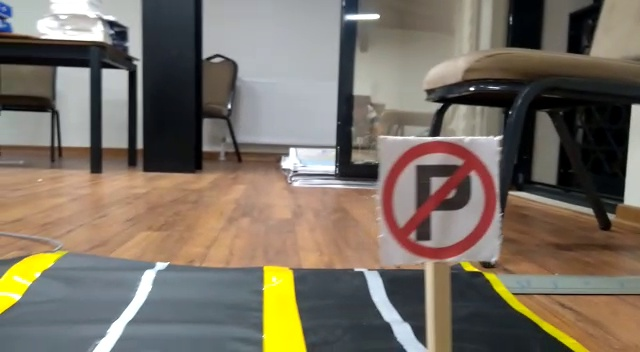park_yapilmaz: (378, 137, 498, 259)
